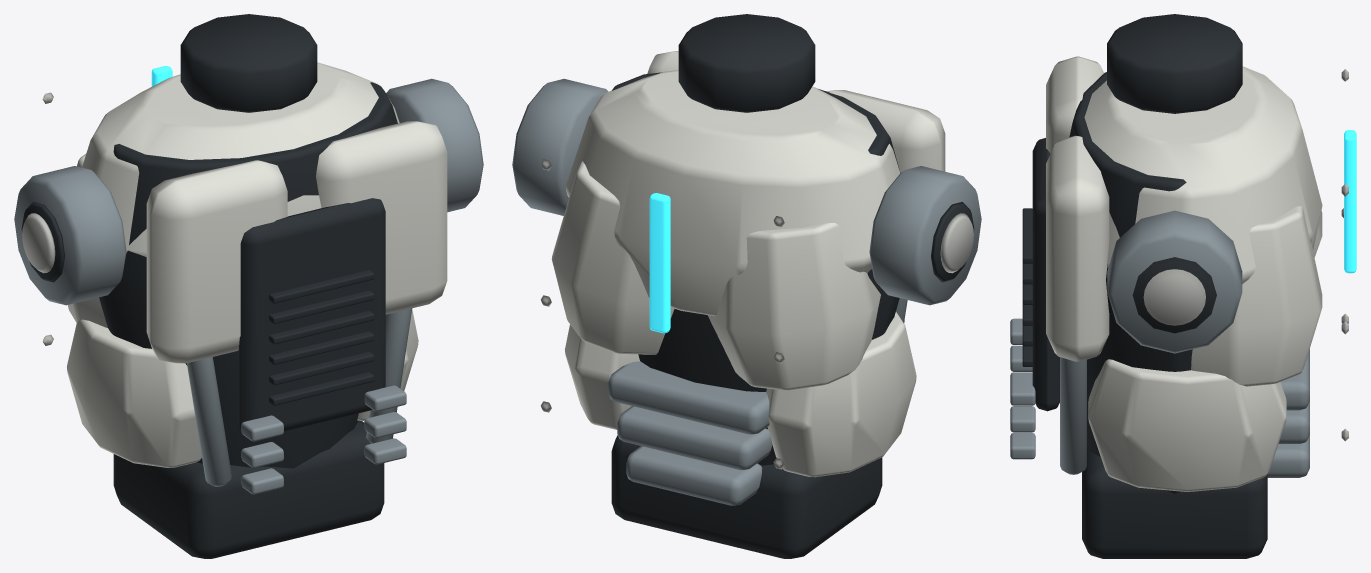
Rendered from torsos_01.glb.
3 renders of one model, left to right at view 1: azimuth 30°, elevation 25°; view 2: azimuth 150°, elevation 25°; view 3: azimuth 270°, elevation 25°, orthographic.
Parts seen in each view (by area): view 1: torsos_01_Geometry; view 2: torsos_01_Geometry; view 3: torsos_01_Geometry.
Boxes of the visible parts, box(x1,y1,x2,y2) form: torsos_01_Geometry: box(14, 14, 483, 558); torsos_01_Geometry: box(512, 14, 981, 558); torsos_01_Geometry: box(1010, 14, 1356, 558).
Bounding box in the file's own units: 0.592 × 0.625 × 0.4105.
